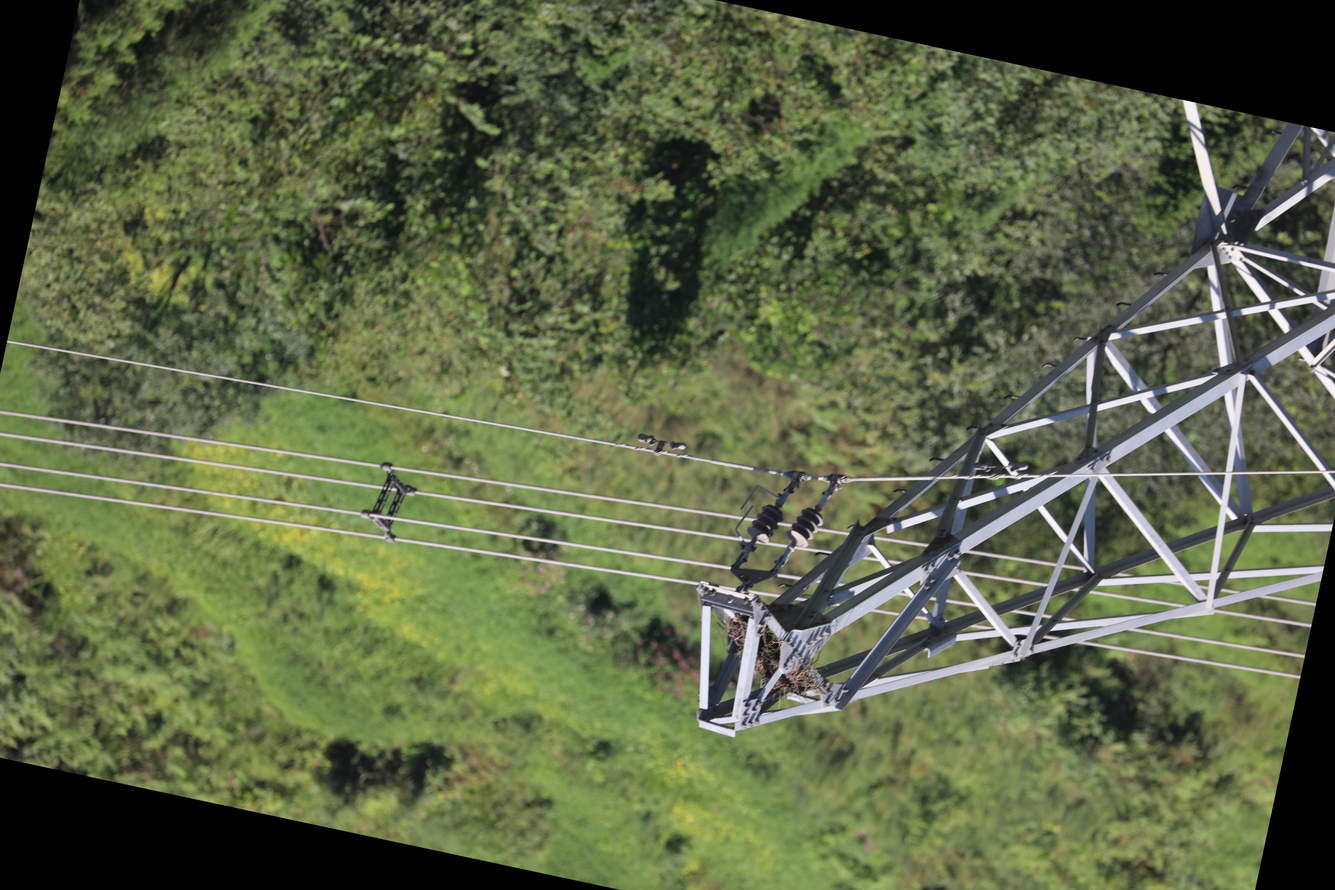damper: (968, 448, 1033, 490), (631, 429, 691, 465)
